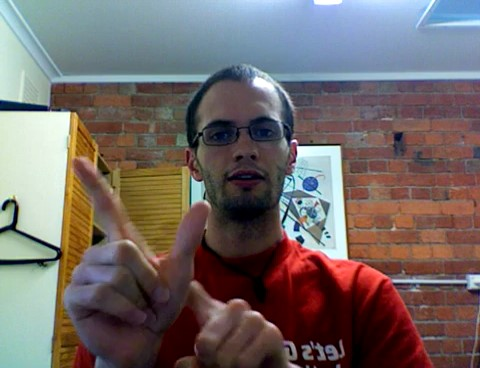Y: (52, 145, 294, 365)
